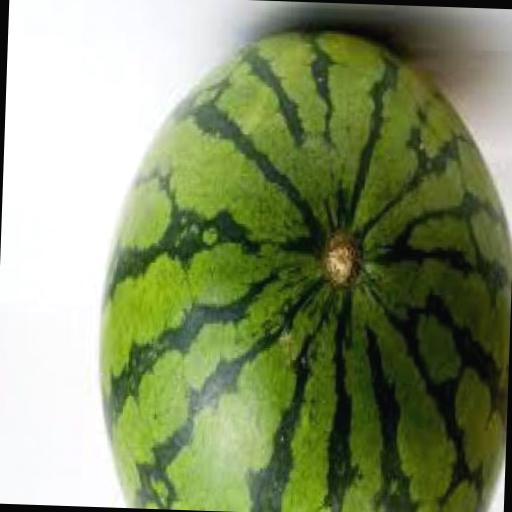biodegradable: (90, 19, 512, 512)
